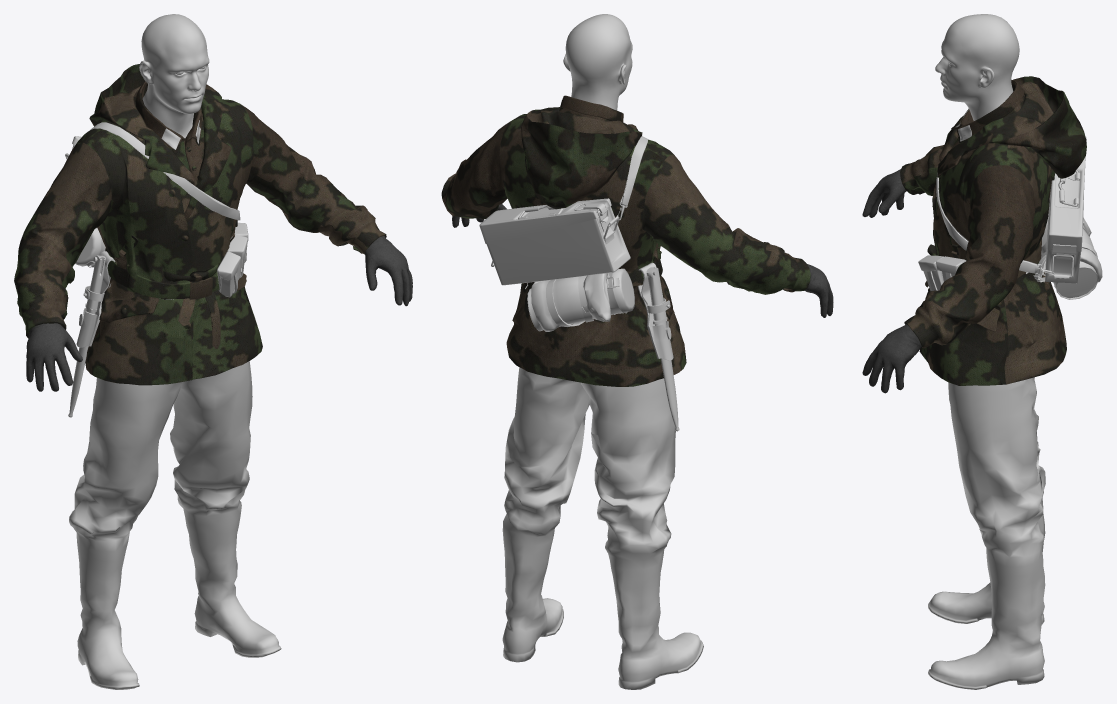
Rendered from soldier1.fbx.
3 renders of one model, left to right at view 1: azimuth 30°, elevation 25°; view 2: azimuth 150°, elevation 25°; view 3: azimuth 270°, elevation 25°, orthographic.
Parts seen in each view (by area): view 1: ww2_ger_test_archetype:torso_mesh0, ww2_ger_test_archetype:mesh0, ww2_ger_test_archetype:cloth_mesh0, ww2_ger_test_archetype:head_male_00_mesh_6fa9d901f87408a5_70, ww2_ger_test_archetype:gear_01_mesh0, ww2_ger_test_archetype:gear_mesh0; view 2: ww2_ger_test_archetype:mesh0, ww2_ger_test_archetype:torso_mesh0, ww2_ger_test_archetype:gear_01_mesh0, ww2_ger_test_archetype:cloth_mesh0, ww2_ger_test_archetype:head_male_00_mesh_6fa9d901f87408a5_70, ww2_ger_test_archetype:gear_mesh0; view 3: ww2_ger_test_archetype:torso_mesh0, ww2_ger_test_archetype:mesh0, ww2_ger_test_archetype:cloth_mesh0, ww2_ger_test_archetype:gear_01_mesh0, ww2_ger_test_archetype:head_male_00_mesh_6fa9d901f87408a5_70, ww2_ger_test_archetype:gear_mesh0.
Boxes of the visible parts, x1=… form: ww2_ger_test_archetype:torso_mesh0: x1=14, y1=64, x2=386, y2=338; ww2_ger_test_archetype:mesh0: x1=69, y1=299, x2=281, y2=689; ww2_ger_test_archetype:cloth_mesh0: x1=85, y1=273, x2=262, y2=385; ww2_ger_test_archetype:head_male_00_mesh_6fa9d901f87408a5_70: x1=139, y1=14, x2=209, y2=138; ww2_ger_test_archetype:gear_01_mesh0: x1=65, y1=122, x2=248, y2=417; ww2_ger_test_archetype:gear_mesh0: x1=26, y1=236, x2=412, y2=391; ww2_ger_test_archetype:mesh0: x1=502, y1=367, x2=703, y2=689; ww2_ger_test_archetype:torso_mesh0: x1=441, y1=95, x2=810, y2=294; ww2_ger_test_archetype:gear_01_mesh0: x1=479, y1=136, x2=679, y2=431; ww2_ger_test_archetype:cloth_mesh0: x1=506, y1=276, x2=686, y2=386; ww2_ger_test_archetype:head_male_00_mesh_6fa9d901f87408a5_70: x1=563, y1=14, x2=632, y2=110; ww2_ger_test_archetype:gear_mesh0: x1=452, y1=204, x2=833, y2=317; ww2_ger_test_archetype:torso_mesh0: x1=900, y1=76, x2=1086, y2=348; ww2_ger_test_archetype:mesh0: x1=928, y1=377, x2=1045, y2=689; ww2_ger_test_archetype:cloth_mesh0: x1=919, y1=262, x2=1066, y2=385; ww2_ger_test_archetype:gear_01_mesh0: x1=918, y1=137, x2=1102, y2=299; ww2_ger_test_archetype:head_male_00_mesh_6fa9d901f87408a5_70: x1=935, y1=14, x2=1019, y2=120; ww2_ger_test_archetype:gear_mesh0: x1=862, y1=169, x2=921, y2=393.
Bounding box in the file's own units: 112 × 181 × 61.99.
